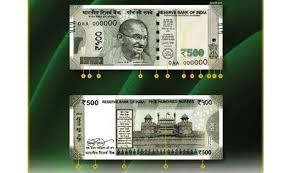fiveHundred: (75, 15, 213, 61)
